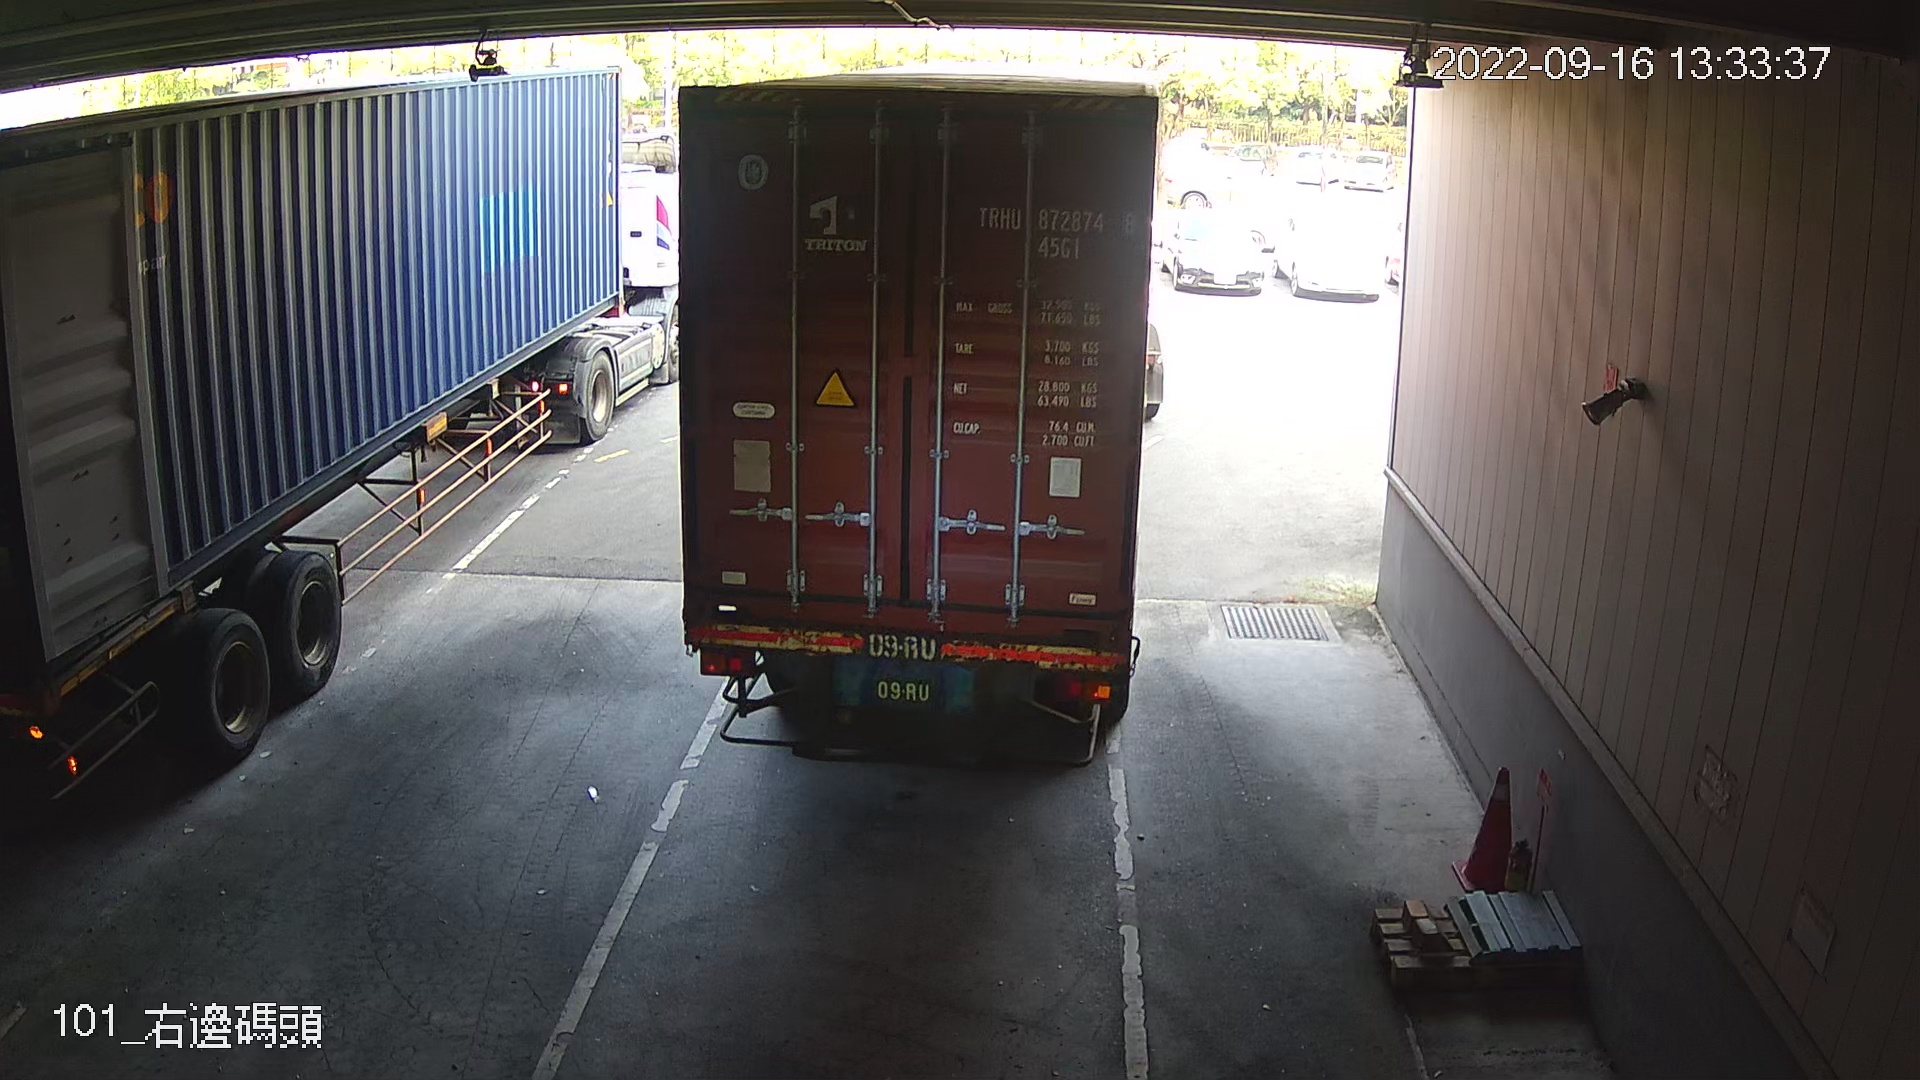container: (963, 193, 1145, 270)
